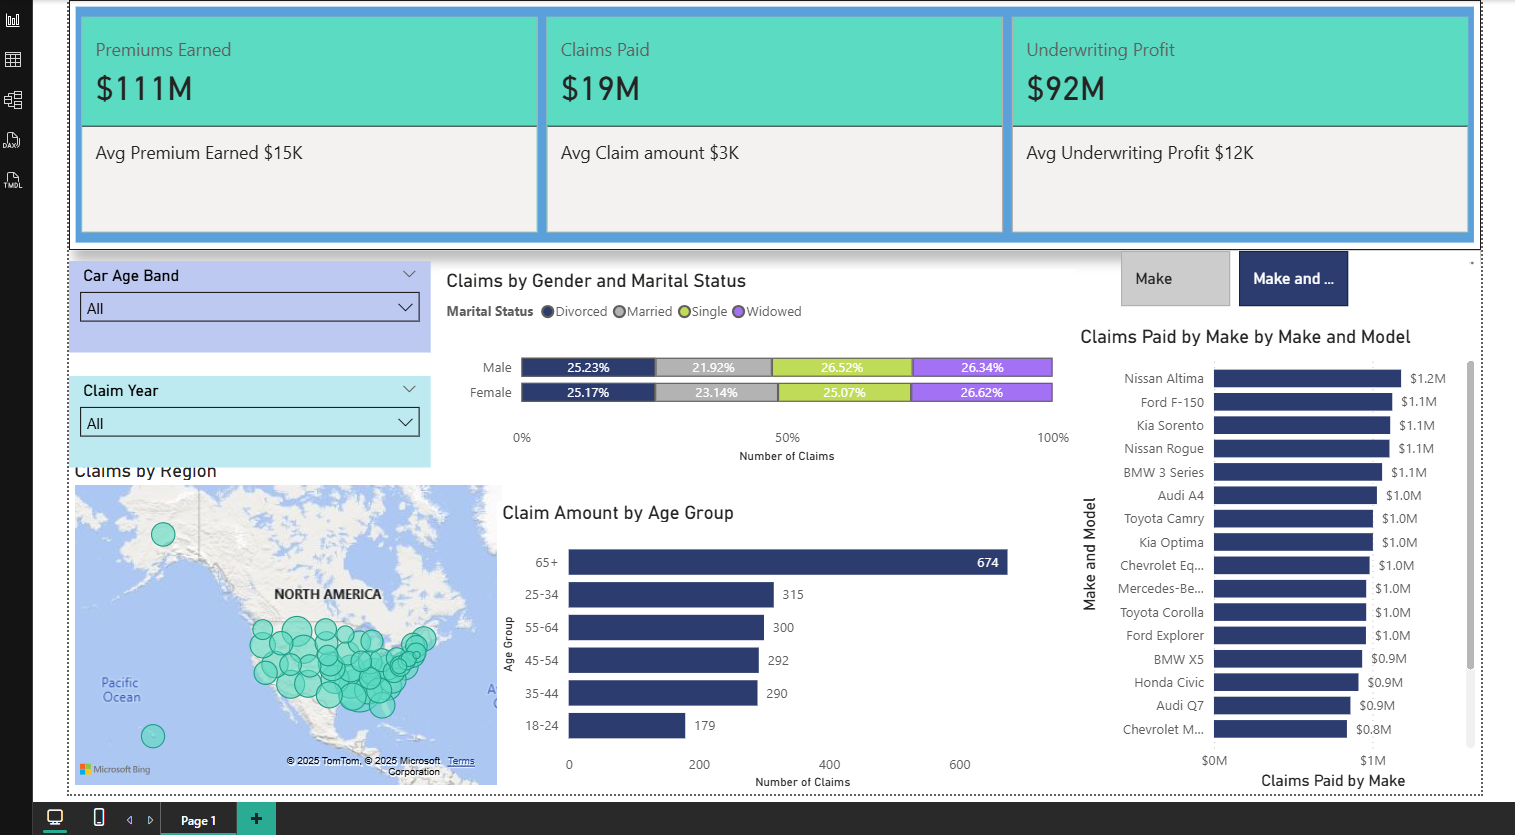

Layout of this report page (visuals, bound fields, positions):
{"tool":"powerbi","page":{"name":"Page 1","canvas":[1280,720],"ordinal":0},"visuals":[{"type":"cardVisual","fields":{"Data":["_measures.Premiums Earned","_measures.Claims Paid","_measures.Underwriting Profit"]},"box":[0,0,1280,226.8],"z":0},{"type":"map","title":"Claims by Region","fields":{"Size":["_measures.Claims Paid"],"Category":["regions.Region"]},"box":[0,416.6,397.9,300.8],"z":1000},{"type":"hundredPercentStackedBarChart","title":"Claims by Gender and Marital Status","fields":{"Category":["customers.Gender"],"Series":["customers.Marital Status"],"Y":["_measures.Number of Claims"]},"box":[337.7,243.8,574.6,179.9],"z":2000},{"type":"clusteredBarChart","title":"Claim Amount by Age Group","fields":{"Category":["customers.Age Group"],"Y":["_measures.Number of Claims"]},"box":[387.7,454.6,504.6,265.8],"z":3000},{"type":"clusteredBarChart","fields":{"Category":["vehicles.Make and Model"],"Y":["_measures.Claims Paid by Make"]},"box":[912.3,294.8,367.7,425.7],"z":4000},{"type":"advancedSlicerVisual","fields":{"Values":["Make vs Make & Model.Make vs Make & Model"]},"box":[954.3,227.8,315.8,51],"z":5000},{"type":"slicer","fields":{"Values":["vehicles.Car Age Band"]},"box":[0,236.8,327.7,82.9],"z":6000},{"type":"slicer","fields":{"Values":["calendar.Year"]},"box":[0,340.7,327.7,82.9],"z":7000}]}

Visuals, with their boxes in screenshot pixels (x1, y1, x2, y2):
cardVisual - _measures.Premiums Earned x _measures.Claims Paid: bbox(28, 0, 1494, 236)
"Claims by Region" map: bbox(28, 454, 483, 798)
"Claims by Gender and Marital Status" hundredPercentStackedBarChart: bbox(414, 256, 1073, 462)
"Claim Amount by Age Group" clusteredBarChart: bbox(472, 497, 1050, 802)
clusteredBarChart - vehicles.Make and Model x _measures.Claims Paid by Make: bbox(1073, 314, 1494, 802)
advancedSlicerVisual - Make vs Make & Model.Make vs Make & Model: bbox(1121, 237, 1483, 296)
slicer - vehicles.Car Age Band: bbox(28, 248, 403, 343)
slicer - calendar.Year: bbox(28, 367, 403, 462)
